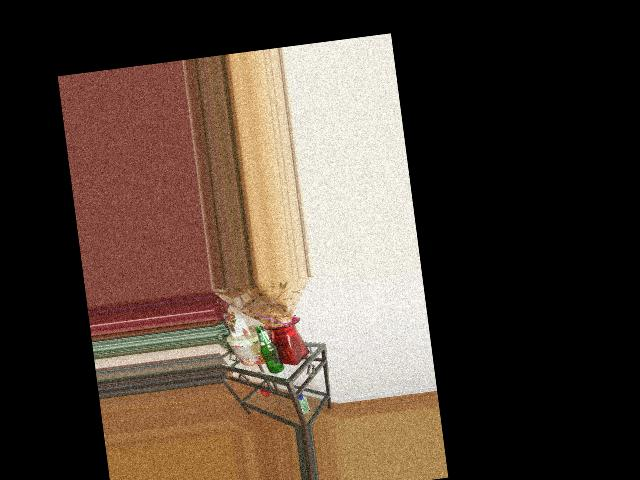beer: (255, 323, 284, 375)
